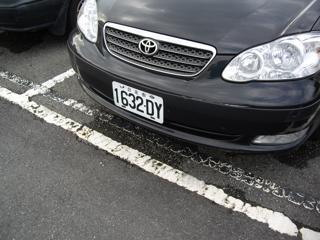plate: (110, 80, 165, 125)
